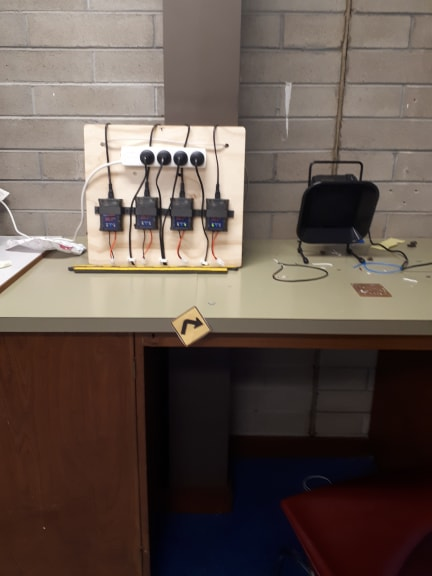right: (189, 301, 232, 379), (162, 300, 220, 352)
